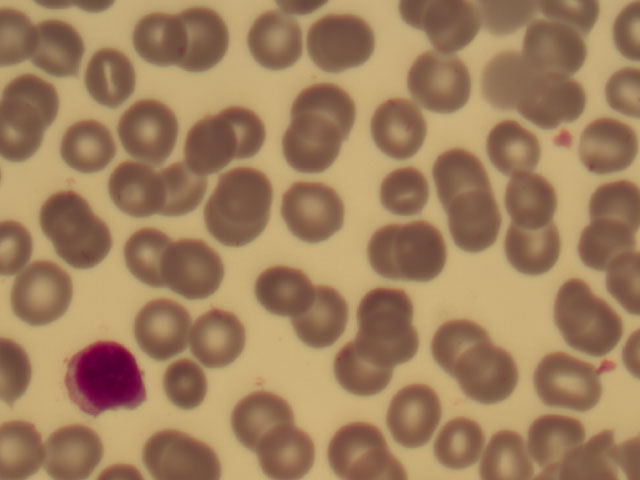Platelets: (552, 126, 575, 157)
RBC: (32, 18, 88, 78), (7, 69, 63, 129), (3, 111, 59, 171), (60, 120, 116, 180), (80, 45, 136, 105), (118, 98, 174, 158), (108, 157, 164, 217), (151, 158, 207, 218), (34, 181, 90, 241), (60, 210, 116, 270), (14, 263, 70, 323), (118, 229, 174, 289), (173, 244, 229, 304), (139, 296, 195, 356), (193, 303, 249, 363), (161, 354, 217, 414), (54, 420, 110, 480), (149, 420, 205, 480), (237, 388, 293, 448), (257, 416, 313, 476), (332, 346, 388, 406), (368, 316, 424, 376), (358, 280, 414, 340), (293, 286, 349, 346), (256, 259, 312, 319), (202, 194, 258, 254), (216, 157, 272, 217), (177, 116, 233, 176), (210, 103, 266, 163), (142, 11, 198, 71), (181, 9, 237, 69), (249, 11, 305, 71), (313, 17, 369, 77), (292, 74, 348, 134), (285, 115, 341, 175), (283, 185, 339, 245), (382, 161, 438, 221), (366, 97, 422, 157), (406, 57, 462, 117), (475, 53, 531, 113), (511, 72, 567, 132), (527, 18, 583, 78), (486, 120, 542, 180), (430, 141, 486, 201), (447, 201, 503, 261), (405, 225, 461, 285), (358, 222, 414, 282), (506, 218, 562, 278), (507, 171, 563, 231), (584, 113, 640, 173), (584, 182, 640, 242), (581, 217, 637, 277), (558, 277, 614, 337), (539, 351, 595, 411), (460, 351, 516, 411), (437, 319, 493, 379), (382, 388, 438, 448), (326, 417, 382, 477), (428, 411, 484, 471), (477, 420, 533, 480), (525, 409, 581, 469), (424, 1, 480, 60)
WBC: (59, 343, 144, 418)
